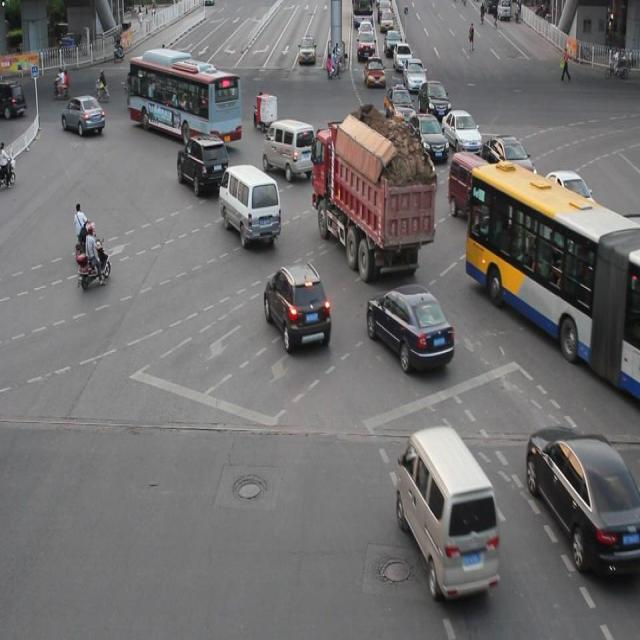bus: (312, 127, 434, 280)
car: (525, 423, 640, 576), (366, 285, 453, 372), (264, 260, 329, 347), (448, 150, 498, 223), (176, 132, 228, 194), (540, 168, 595, 226), (482, 133, 534, 188), (393, 136, 435, 192), (405, 111, 447, 163), (441, 110, 479, 154)
truck: (394, 424, 498, 596), (219, 164, 280, 241), (261, 117, 315, 177)
van: (464, 162, 640, 396), (128, 55, 241, 146)
